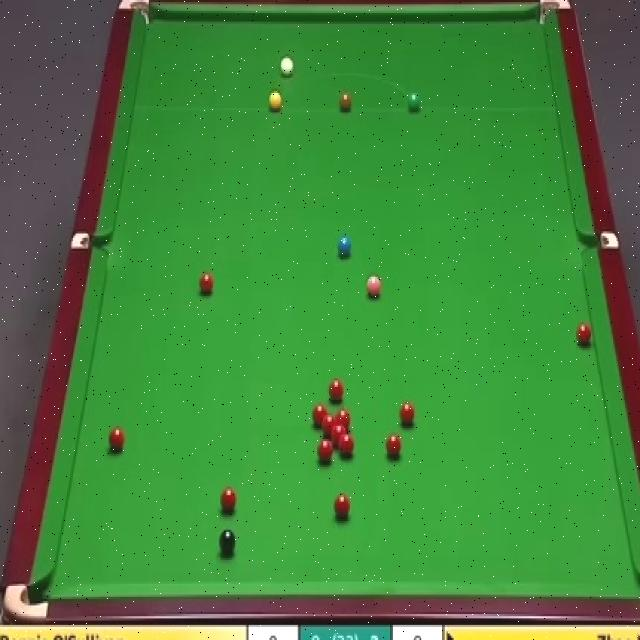black-ball: (219, 528, 238, 553)
blue-ball: (337, 233, 352, 261)
brown-ball: (338, 91, 352, 111)
green-ball: (408, 92, 422, 111)
pink-ball: (366, 276, 382, 300)
red-ball: (333, 492, 352, 520), (106, 424, 124, 452), (575, 322, 593, 349), (311, 401, 329, 428), (397, 402, 417, 426), (326, 378, 346, 402), (384, 433, 402, 459), (220, 486, 238, 512), (338, 436, 356, 460), (335, 410, 352, 434), (317, 438, 333, 463), (322, 415, 338, 437), (199, 274, 214, 294), (331, 426, 346, 444)
white-ball: (280, 58, 295, 76)
yellow-ball: (268, 91, 282, 111)
